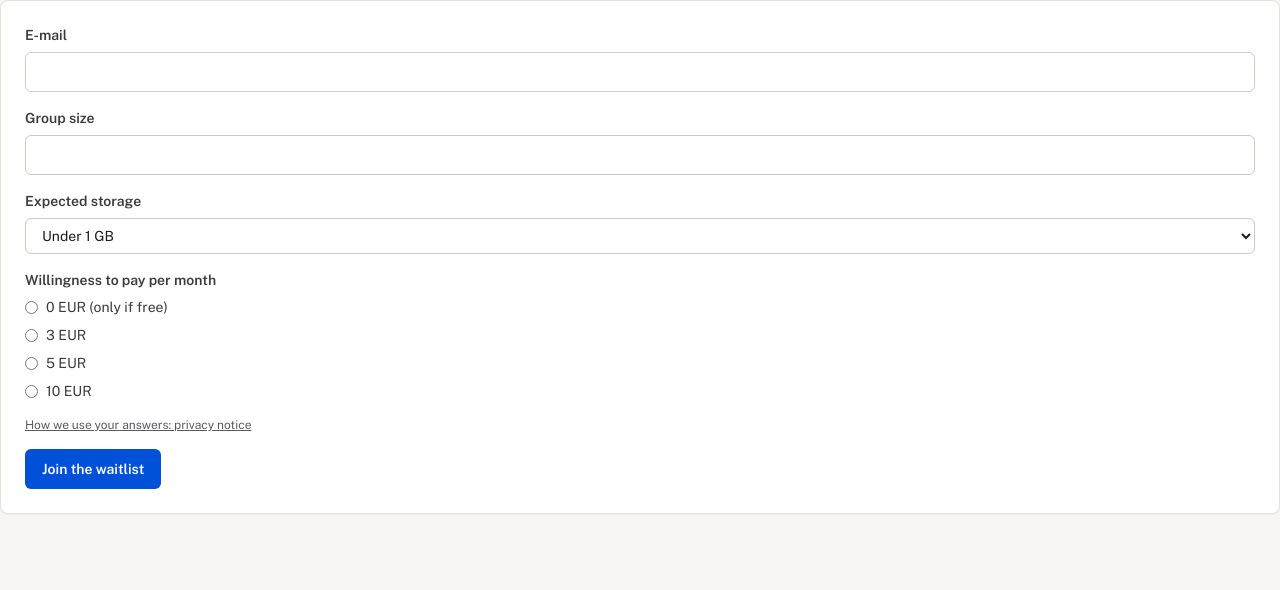
Test: explains INVALID_EMAIL
This screenshot has width=1280, height=590.
Type "Person@Example.test" into the field labelled "E-mail".
click(640, 72); type("Person@Example.test")  # box [25,52,1255,92]
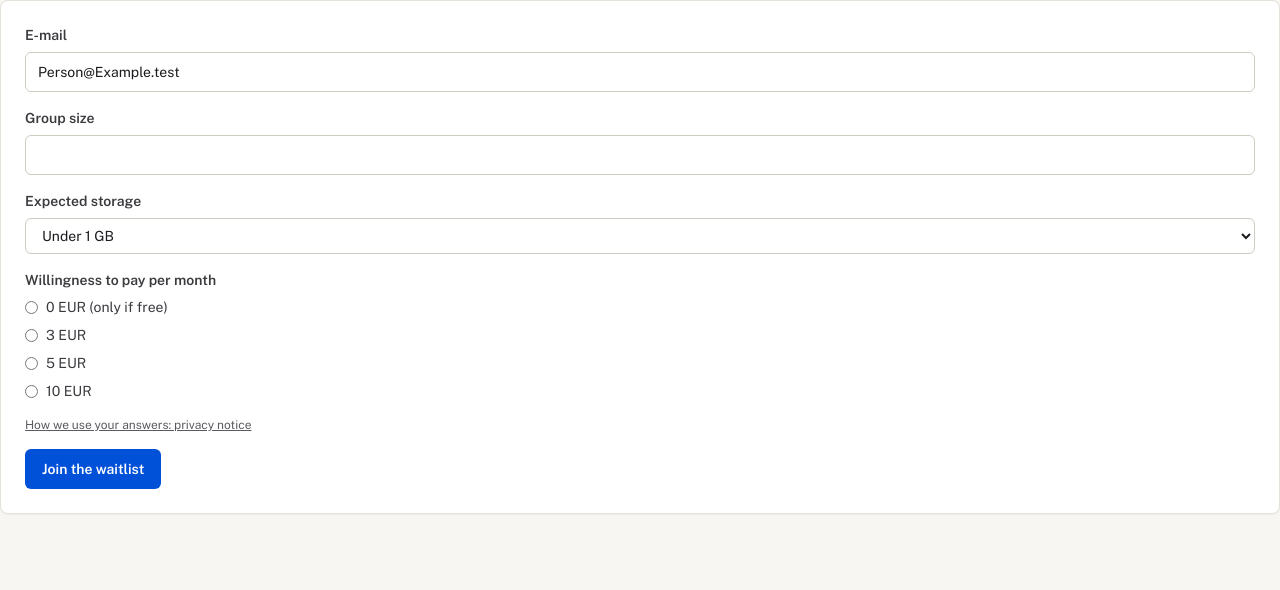
Type "12" into the number field labelled "Group size".
click(640, 155); type("12")  # box [25,135,1255,175]
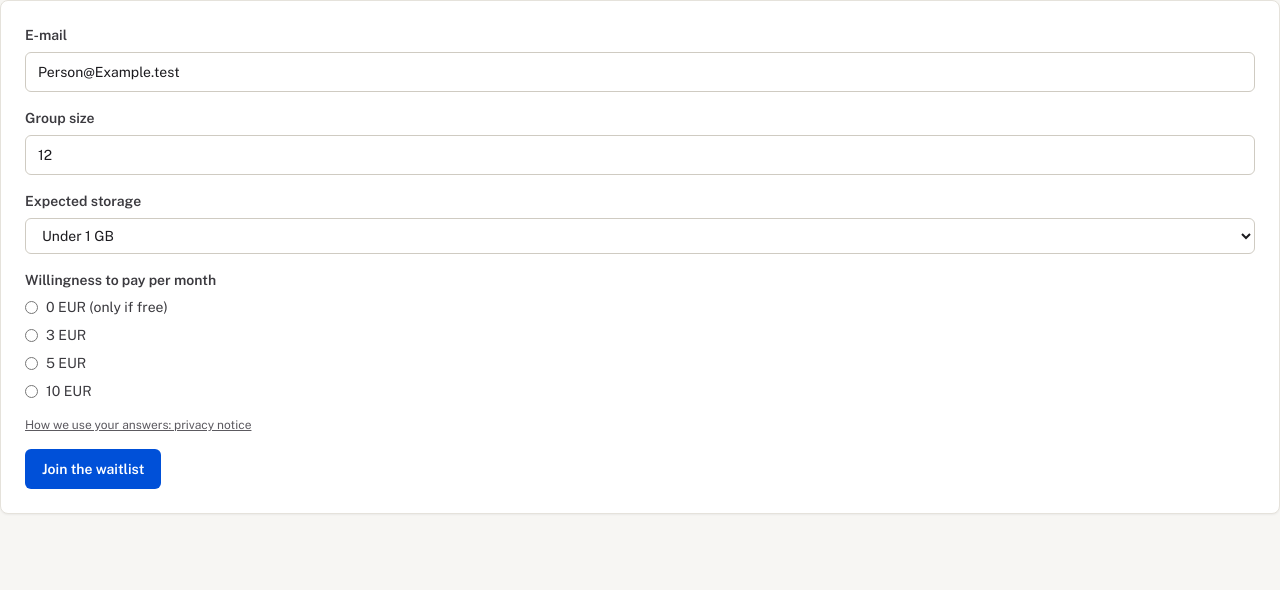
Select "10–100 GB" in the dropdown labelled "Expected storage" at (640, 236), box [25,218,1255,254]
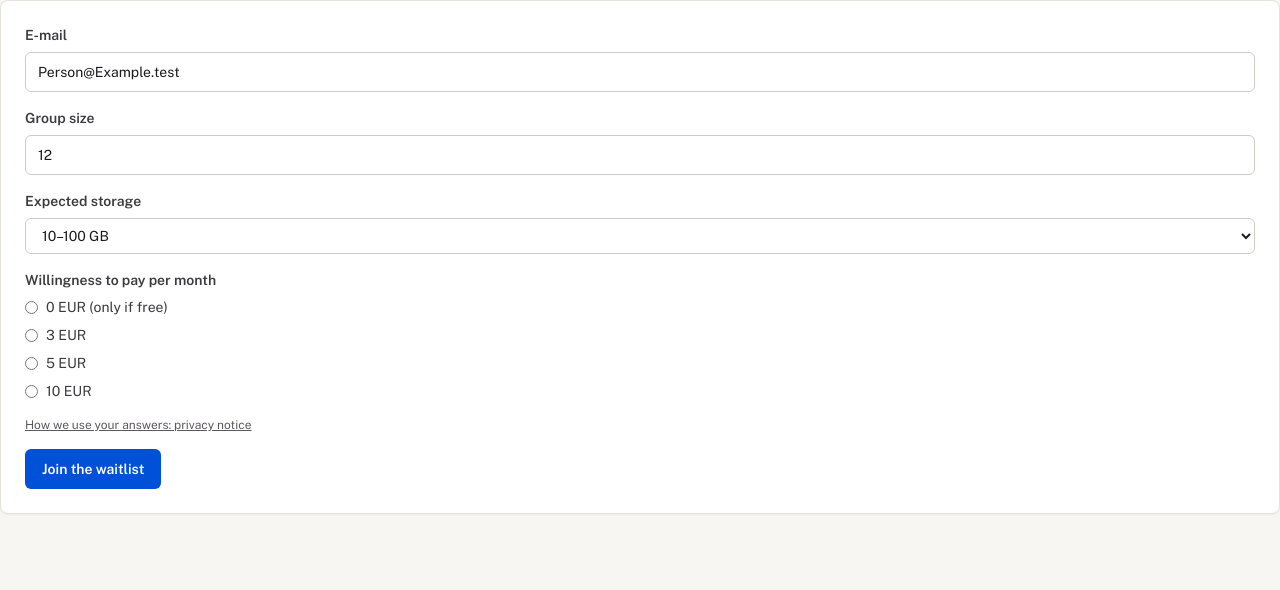
Click the radio button labelled "5 EUR".
click(32, 363)  # box [25,356,38,370]
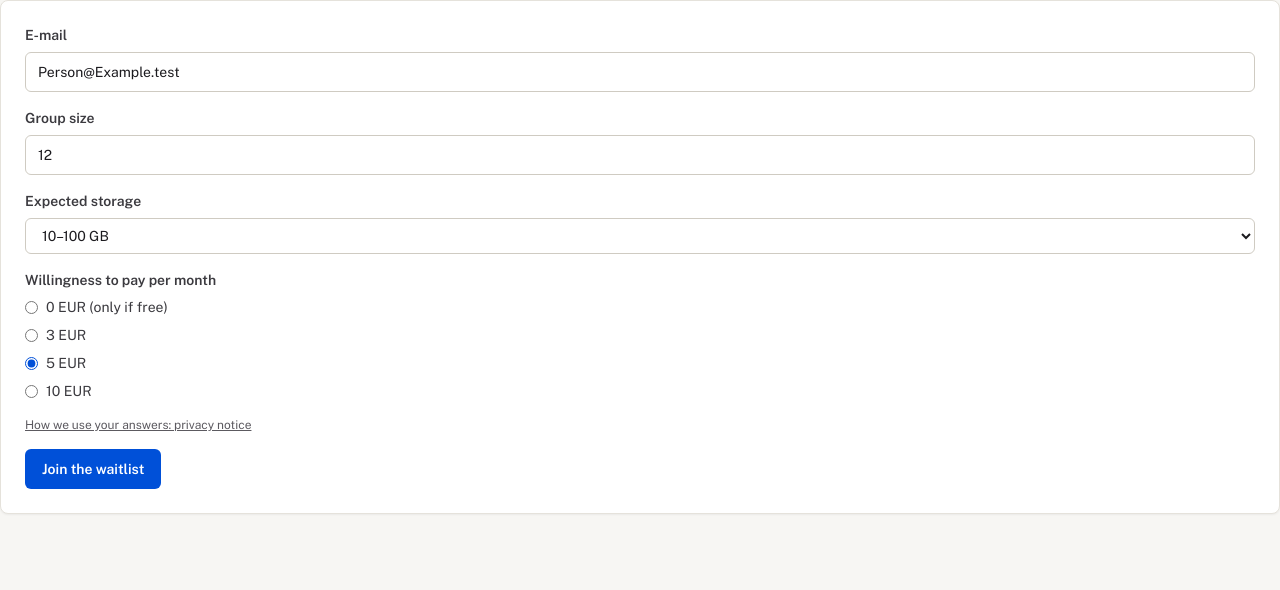
Submit the form named "Join the waitlist"
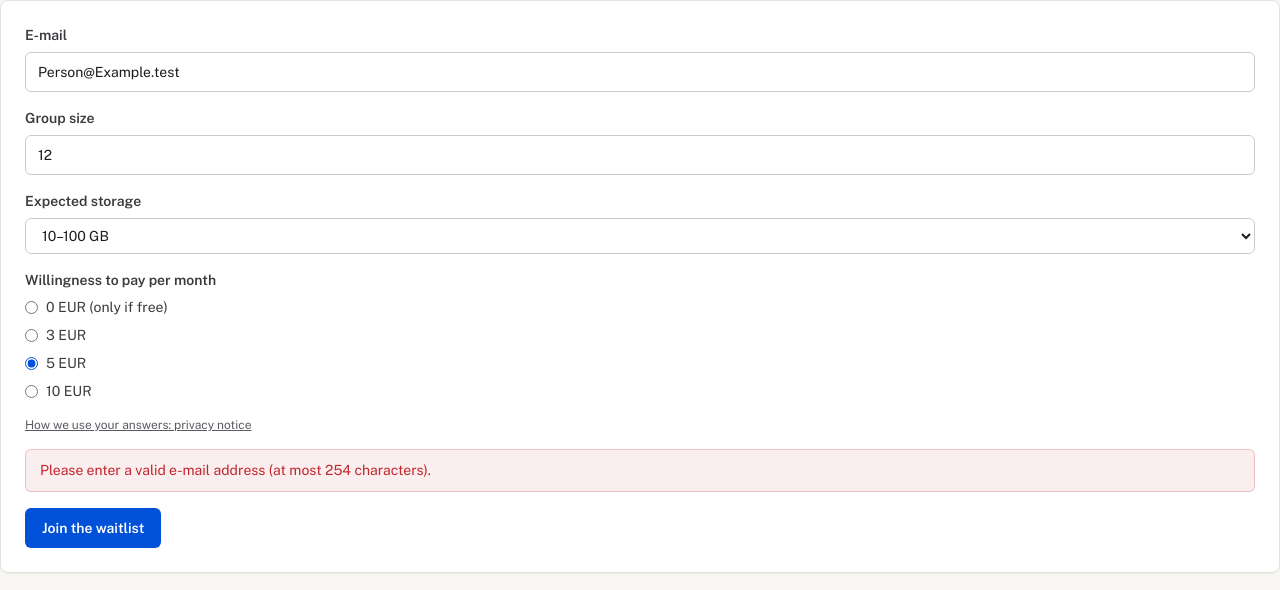
expect the message reads "Please enter a valid e-mail address (at most 254 characters).": met, box [40,462,431,478]
